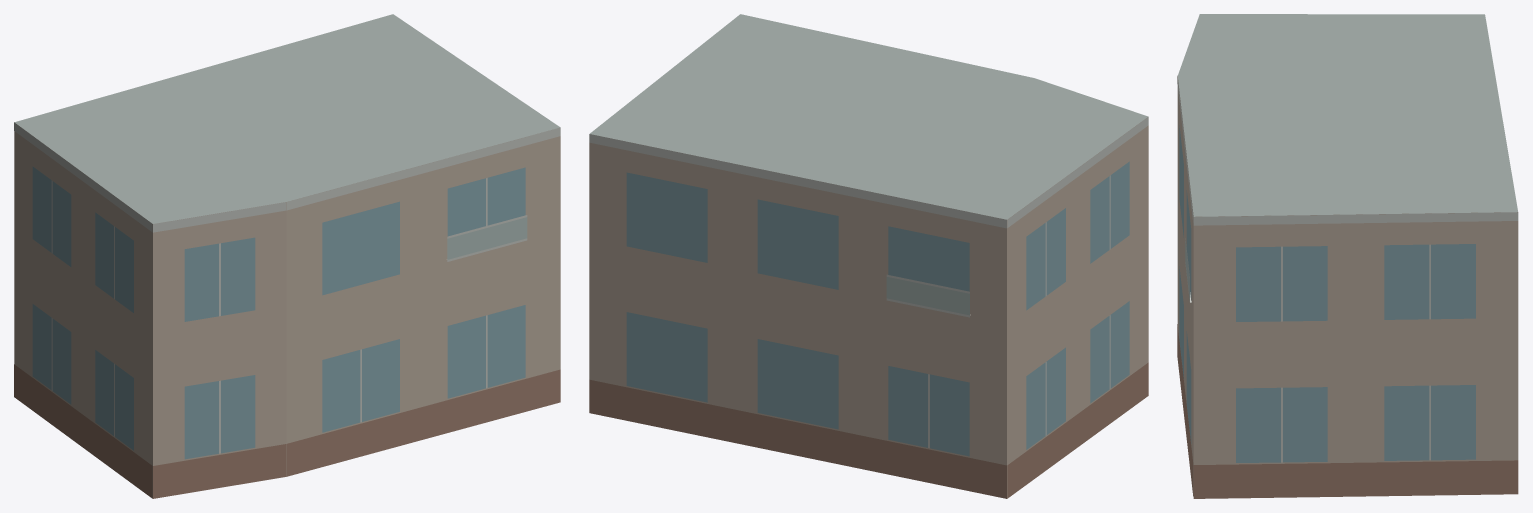
Rendered from survey-upis-32493719.glb.
The picture shows the model from 3 angles, left to right: view 1: azimuth 30°, elevation 25°; view 2: azimuth 150°, elevation 25°; view 3: azimuth 270°, elevation 25°; orthographic projection. The views are drawn at different scales.
Visible parts, largest first — view 1: survey-upis-32493719.tmp; view 2: survey-upis-32493719.tmp; view 3: survey-upis-32493719.tmp.
Boxes of the visible parts, bbox=[...] form: survey-upis-32493719.tmp: bbox=[14, 14, 560, 498]; survey-upis-32493719.tmp: bbox=[589, 14, 1148, 498]; survey-upis-32493719.tmp: bbox=[1177, 14, 1518, 498].
Bounding box in the file's own units: 12.04 × 7.8 × 8.55.
